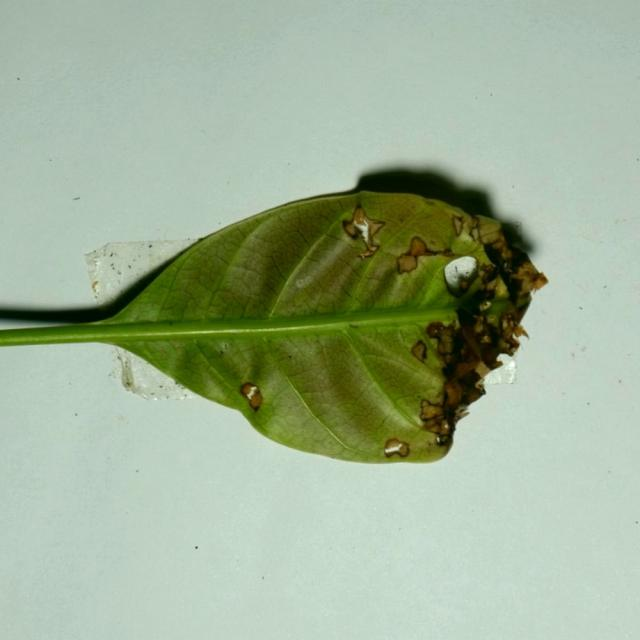Anthracnose: (418, 388, 470, 442), (398, 235, 455, 278), (346, 204, 385, 262), (504, 254, 549, 298), (497, 308, 530, 350), (451, 213, 481, 246), (454, 368, 484, 401), (485, 230, 512, 266), (478, 269, 501, 303), (240, 382, 263, 411), (479, 342, 504, 368), (383, 438, 409, 458), (396, 254, 418, 274), (425, 321, 447, 340), (411, 340, 427, 363), (473, 314, 488, 337), (91, 280, 100, 295)
Mango: (0, 168, 548, 467)
